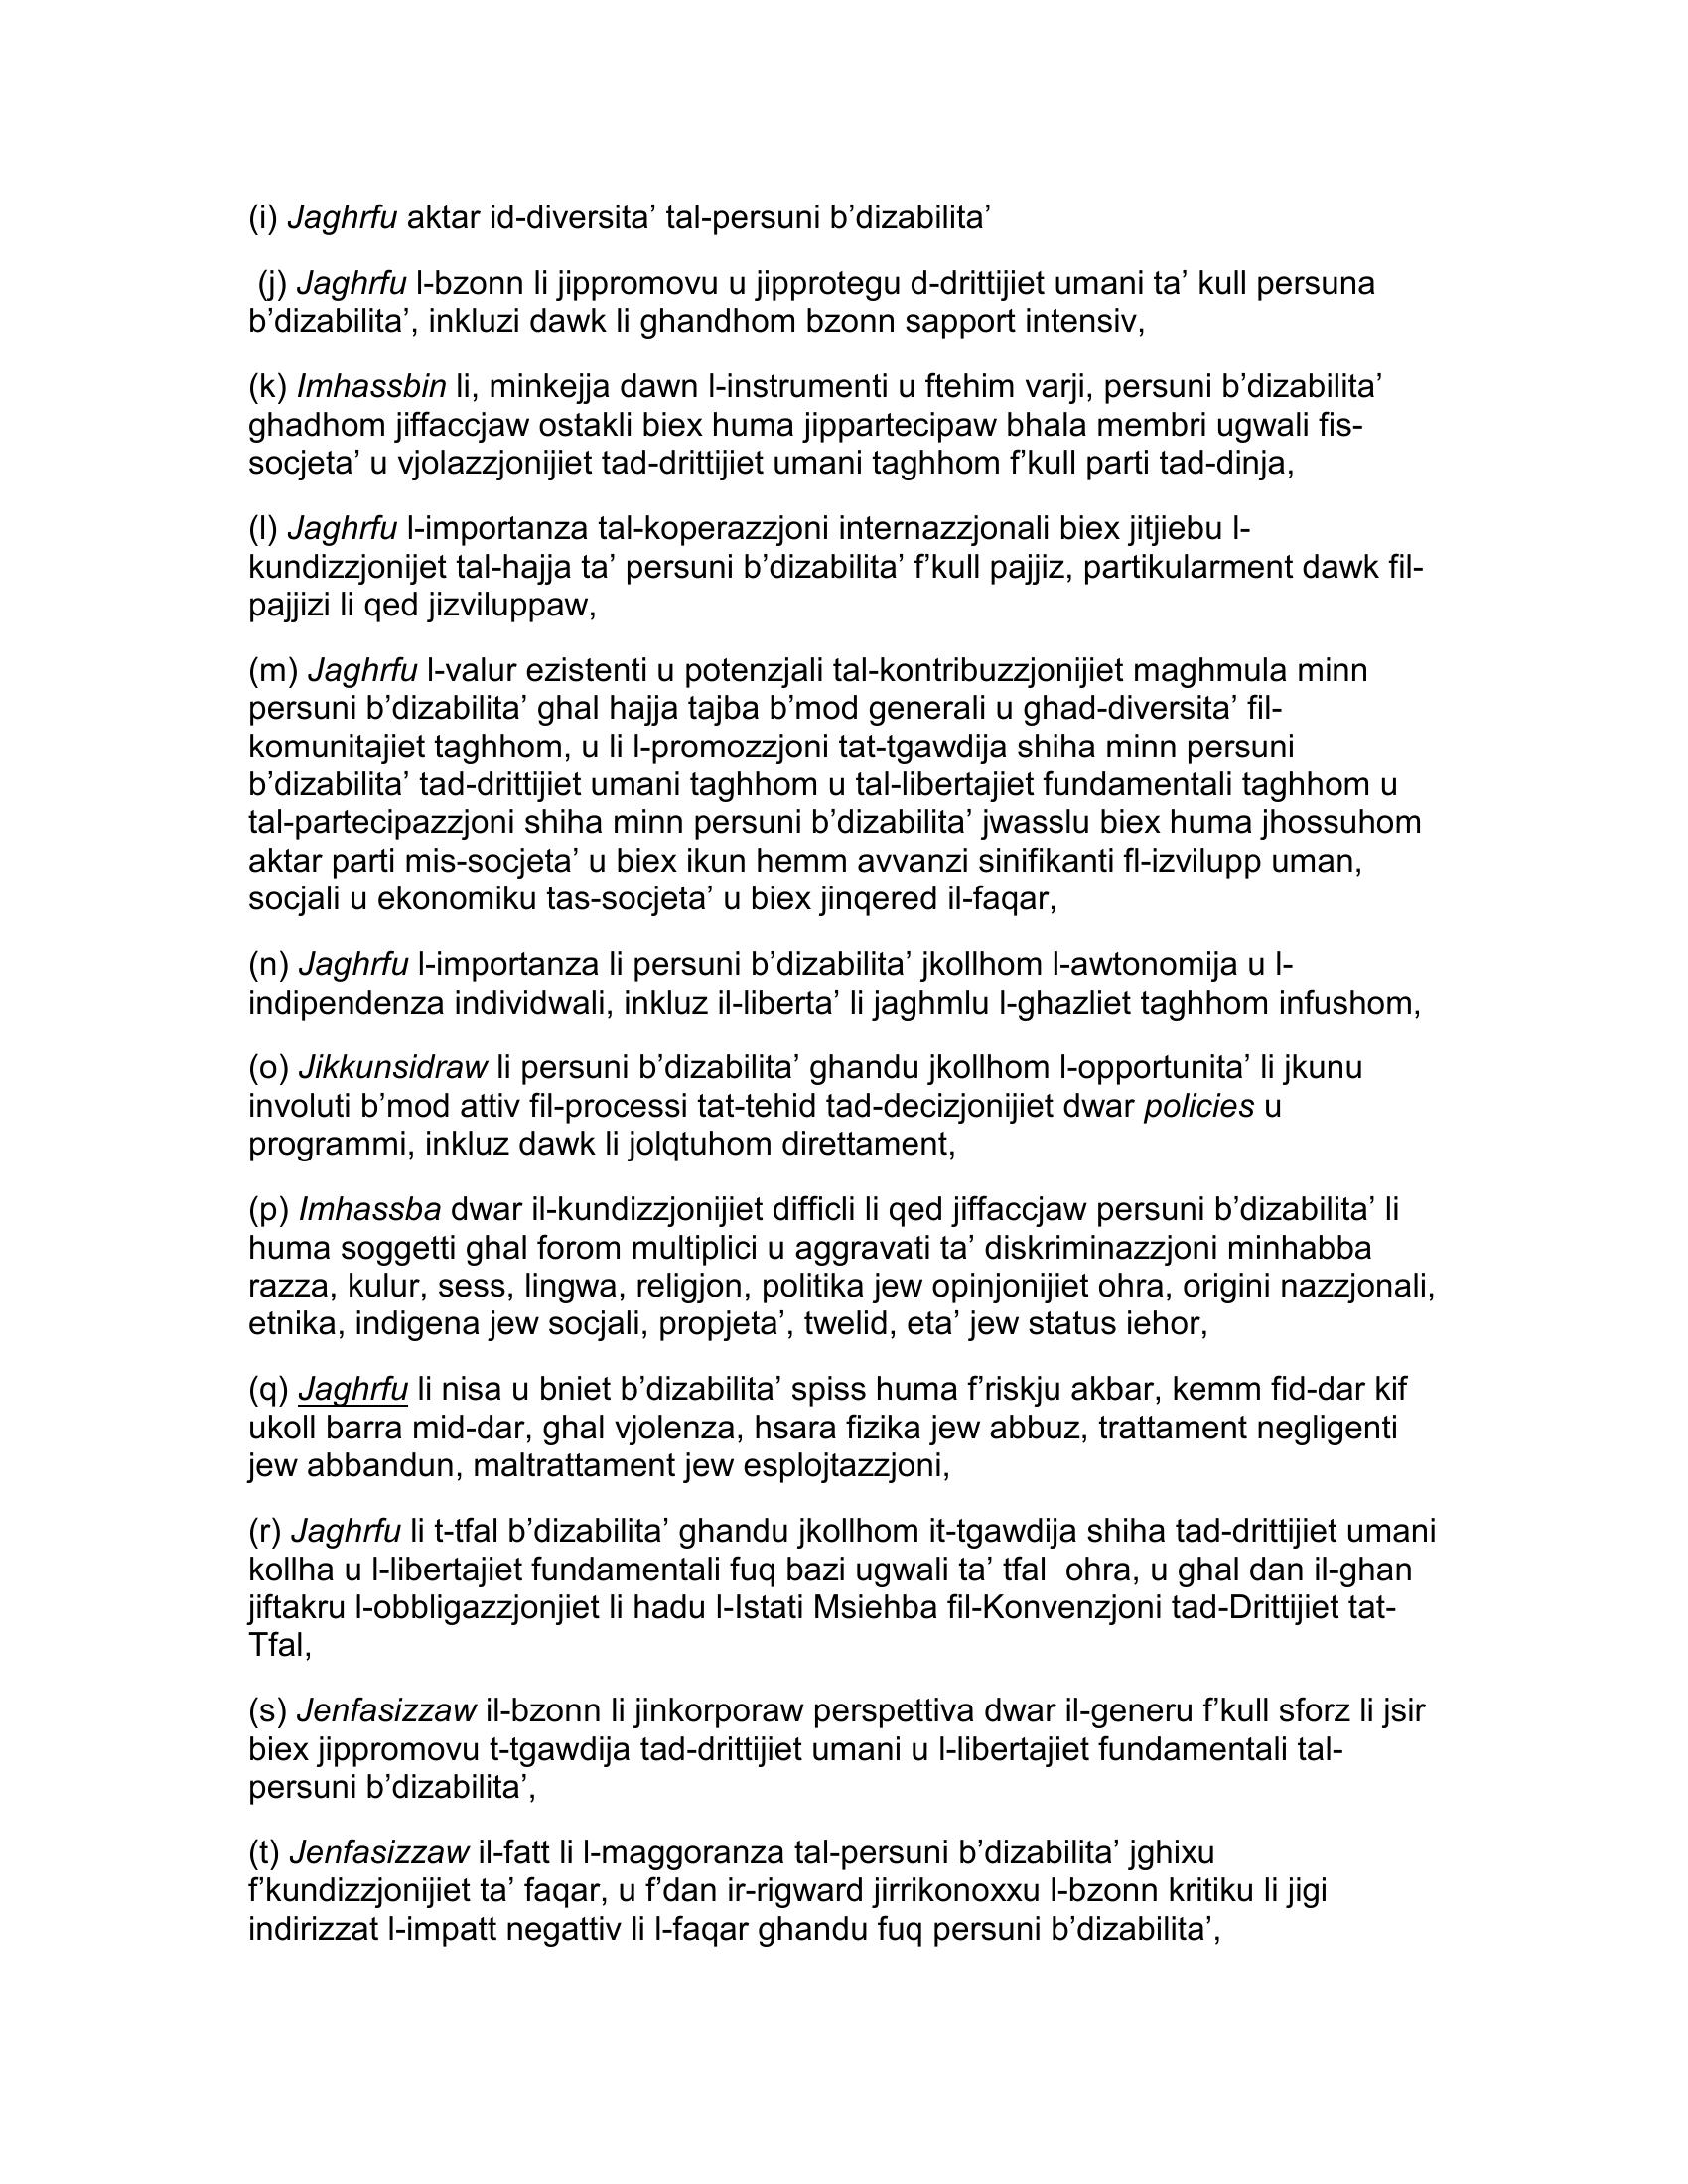text: (216, 184, 1461, 1980)
